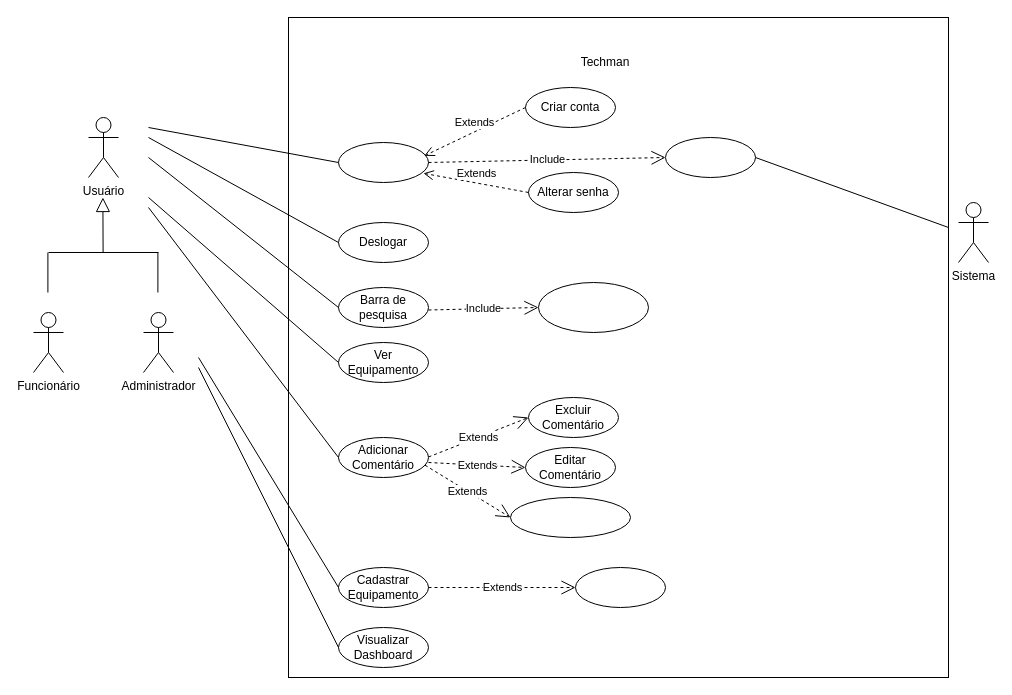
This 1012x695 diagram has some shape labels left out. The shapes that lost their labels are listed below. From the top down, each one's centre as x and y in pixels, then its label:
point 383,162: Efetuar Login
point 710,157: Verificar Senha
point 593,307: Visualizar Equipamento disponível
point 570,517: Ver Histórico de comentário
point 620,587: Excluir Equipamento
